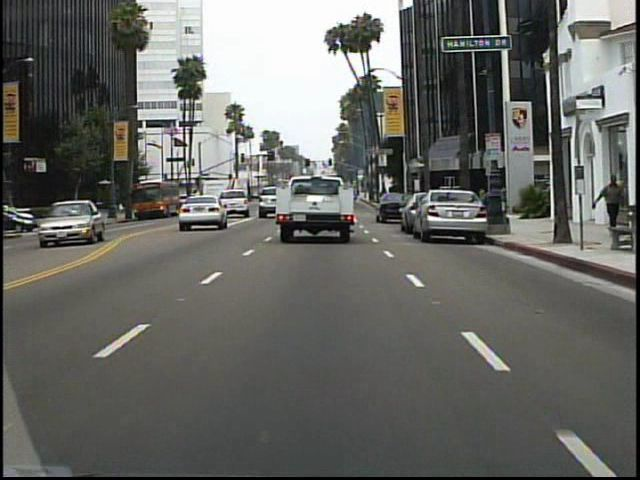person: (589, 173, 625, 233), (94, 195, 109, 224)
